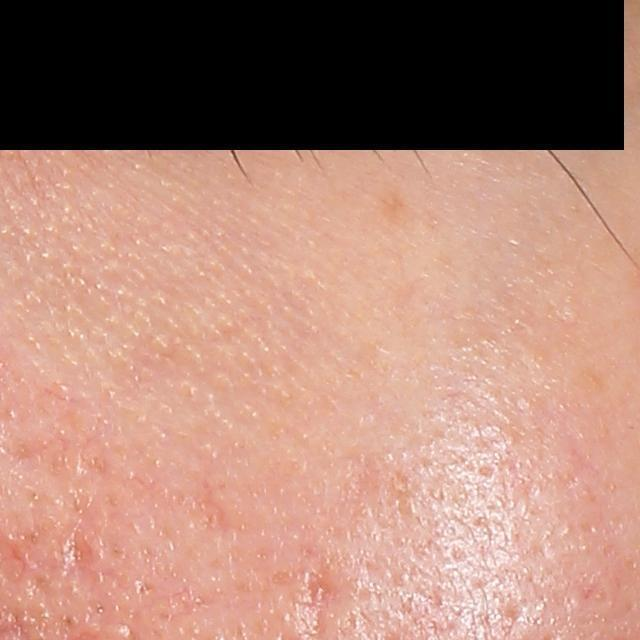melasma: (375, 184, 411, 228)
